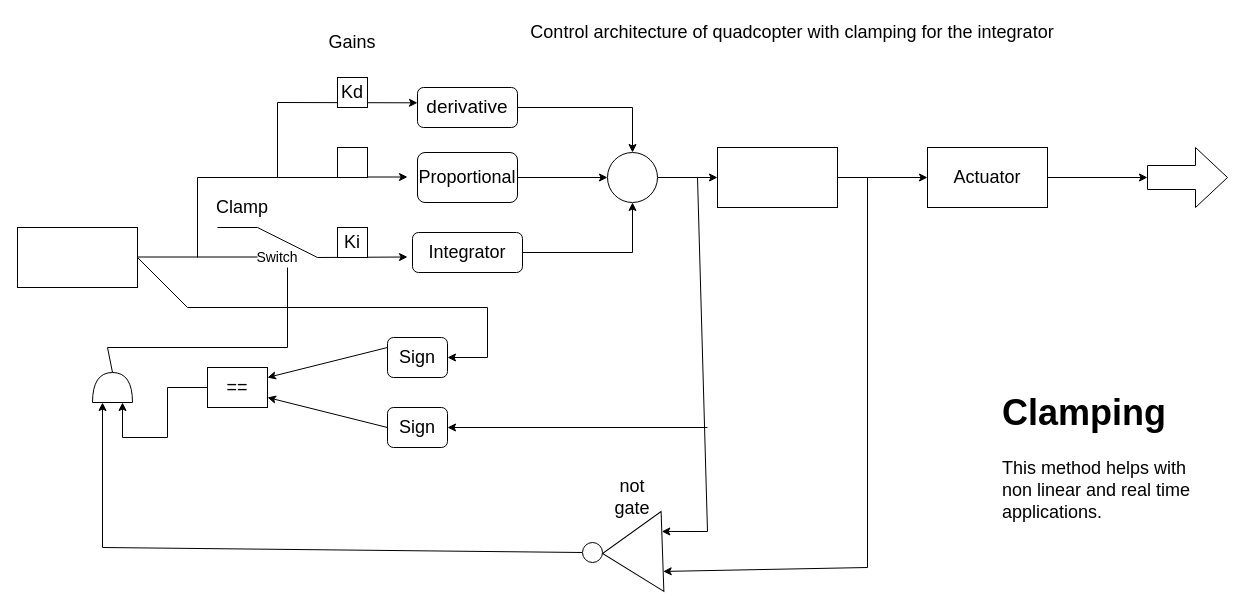
Image size: 1245x611. Some labels were removed from this diagram. Each missing label, with the centre of its shape:
"Actuator output" belongs at (x=1187, y=177).
"and" belongs at (x=112, y=387).
"Clamping saturation limit" belongs at (x=777, y=177).
"Error" belongs at (x=77, y=257).
"Kp" belongs at (x=352, y=162).
